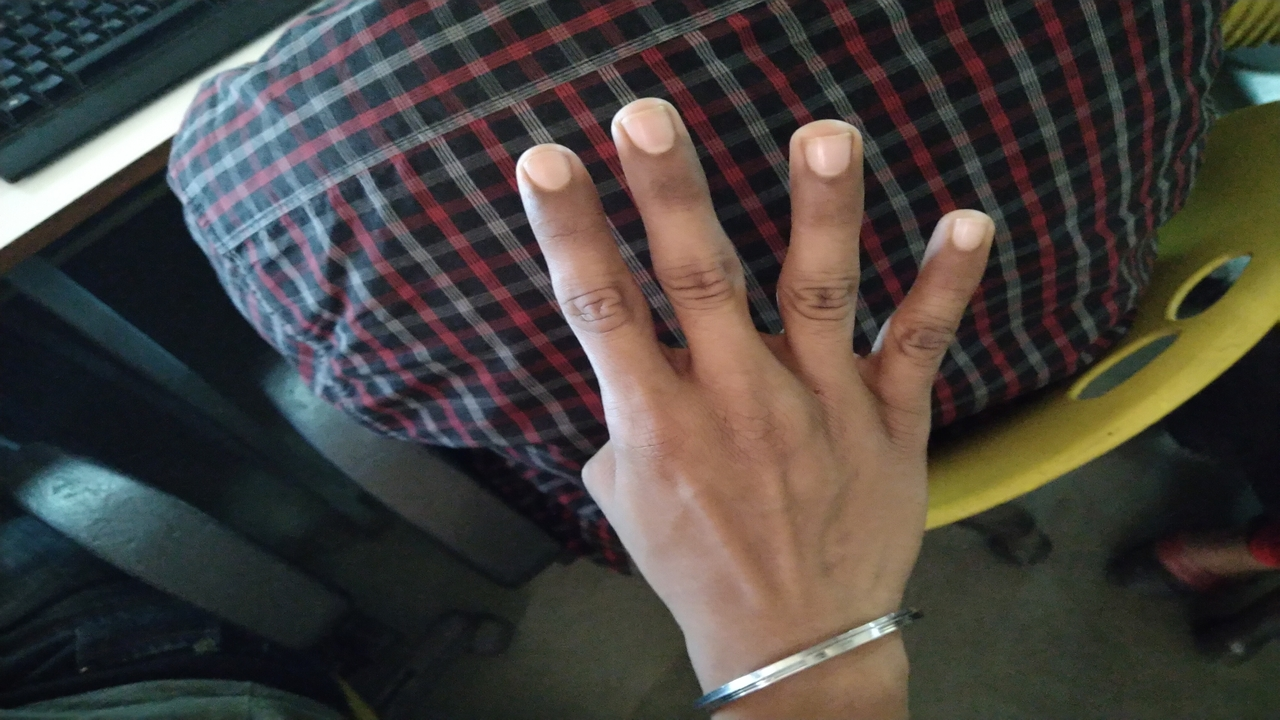fingertip: (596, 90, 692, 170), (784, 116, 870, 194), (928, 200, 1004, 274), (506, 138, 582, 208)
